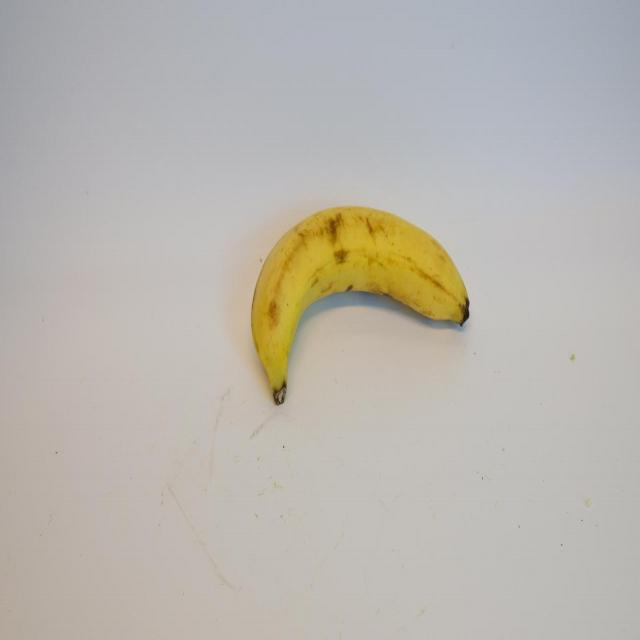banana: (251, 205, 472, 394)
